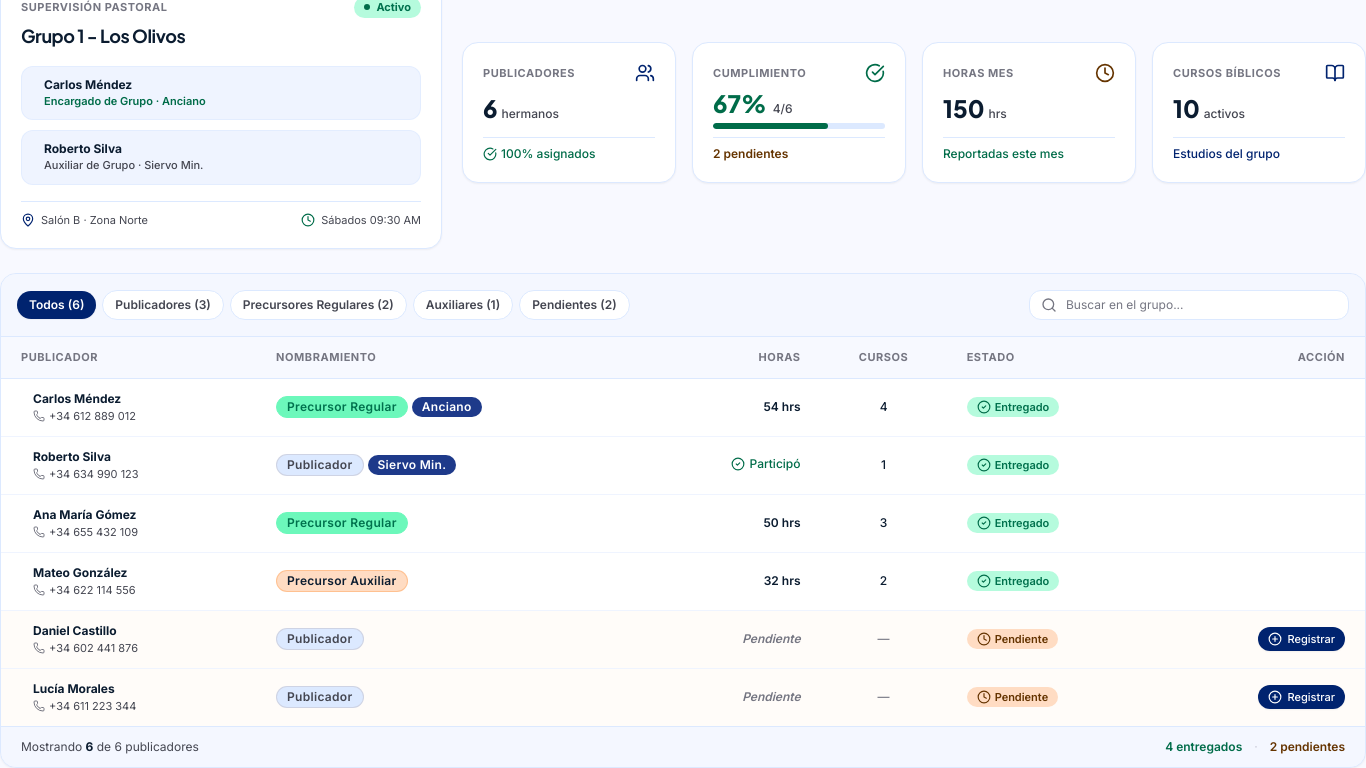
Test: ServiceGroupsPage › abre el modal asistido y permite registrar un informe pendiente
(page scrolled)
Step 1. Click the button with aria-label "registrar informe de daniel castillo" → (1301, 639), box [1258,627,1345,651]
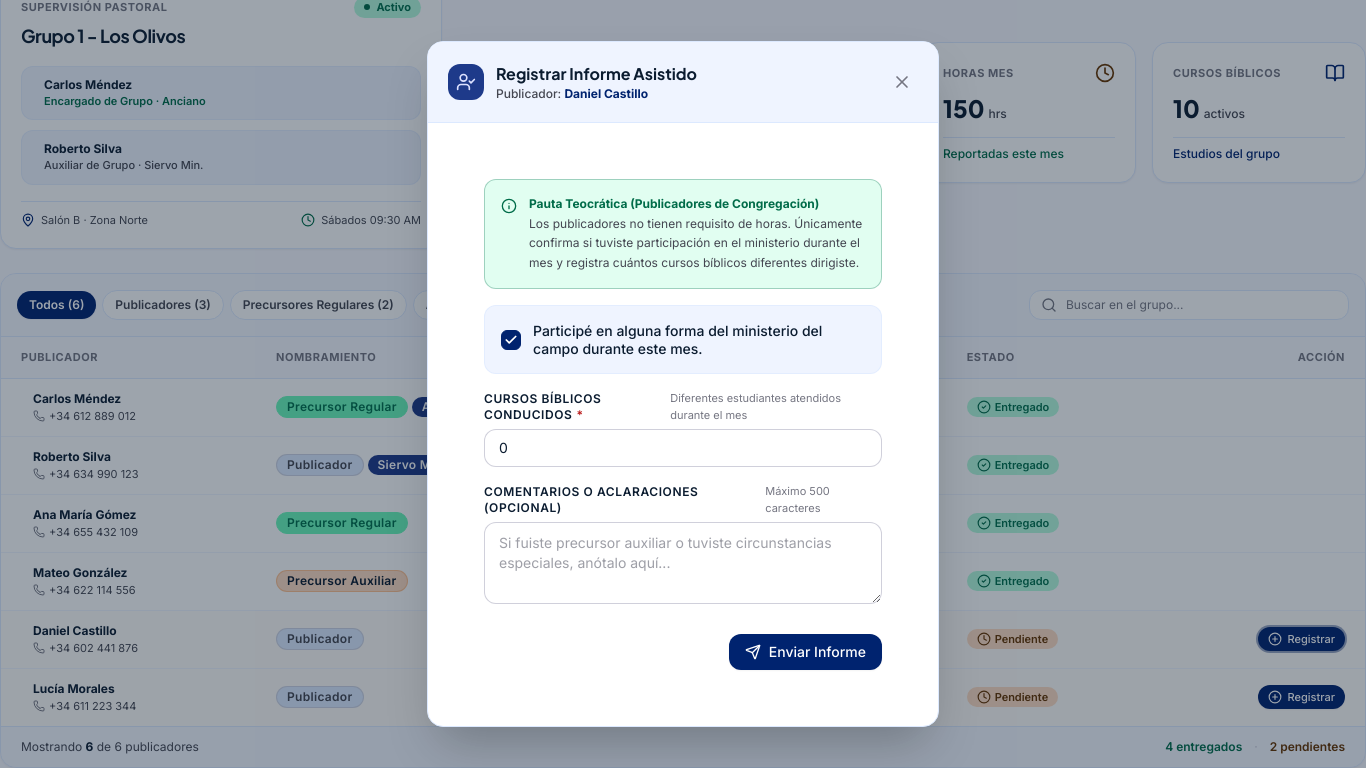
Now the dialog is shown
Now the text "Registrar Informe Asistido" is shown, box [496,62,697,86]
Step 2. Type "2" into the number field labelled "Cursos Bíblicos Conducidos*" → (683, 448), box [484,429,882,467]
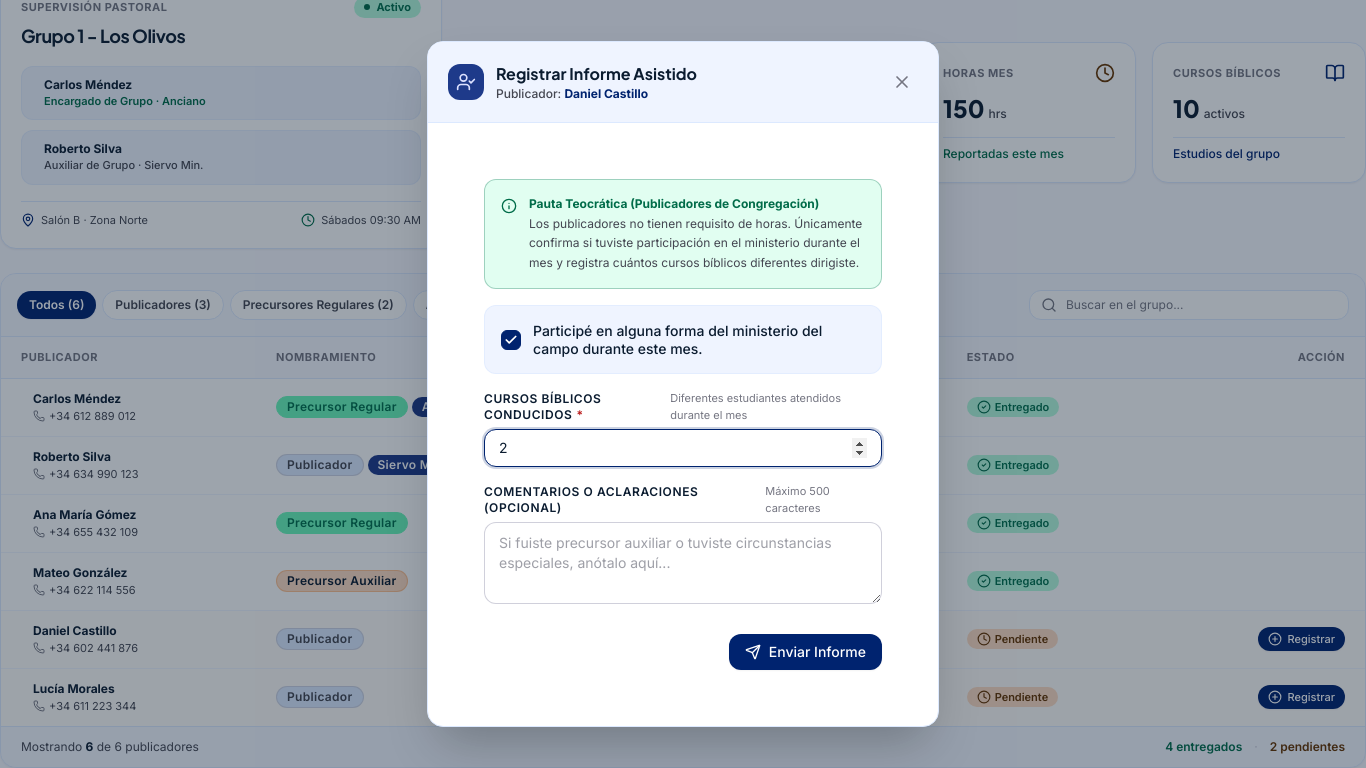
Step 3. Click the button "Enviar Informe" → (805, 652), box [729,634,882,670]
(page scrolled)
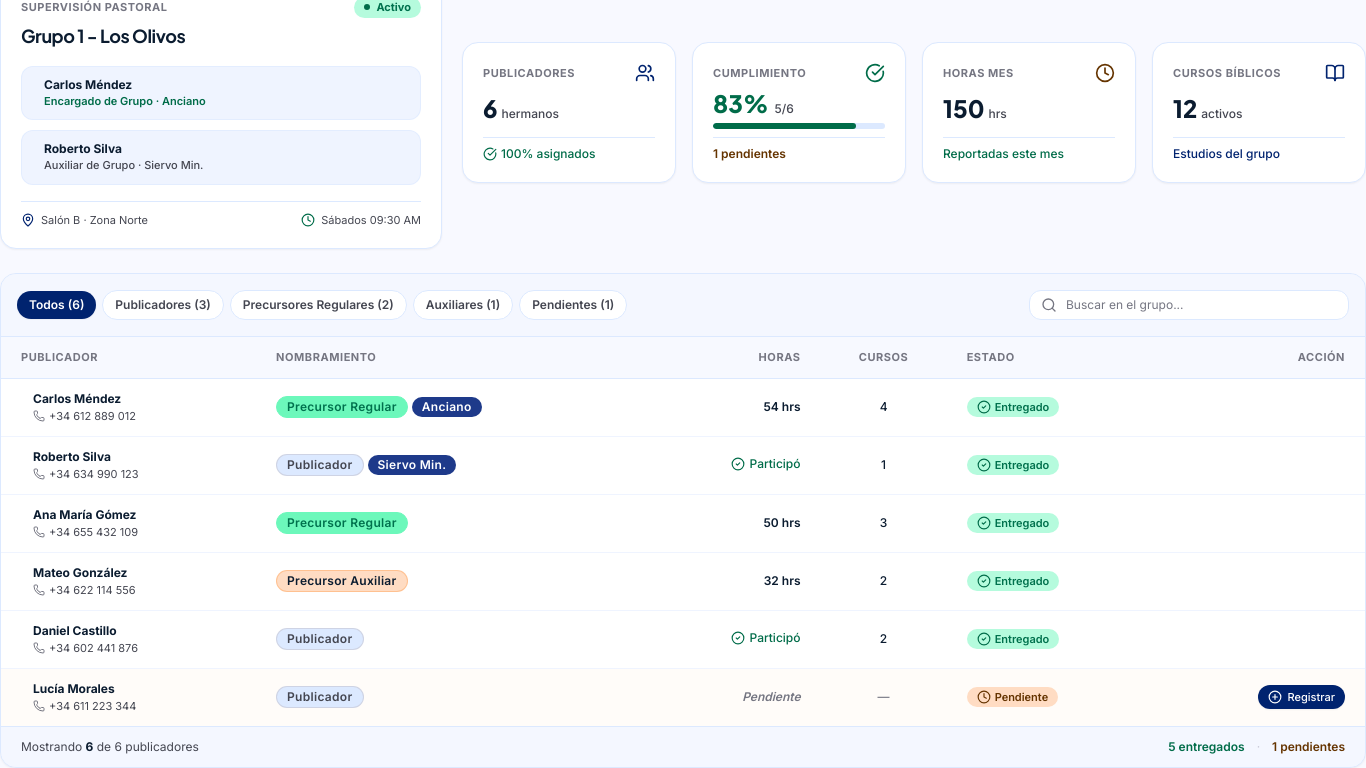
Now the dialog is gone
